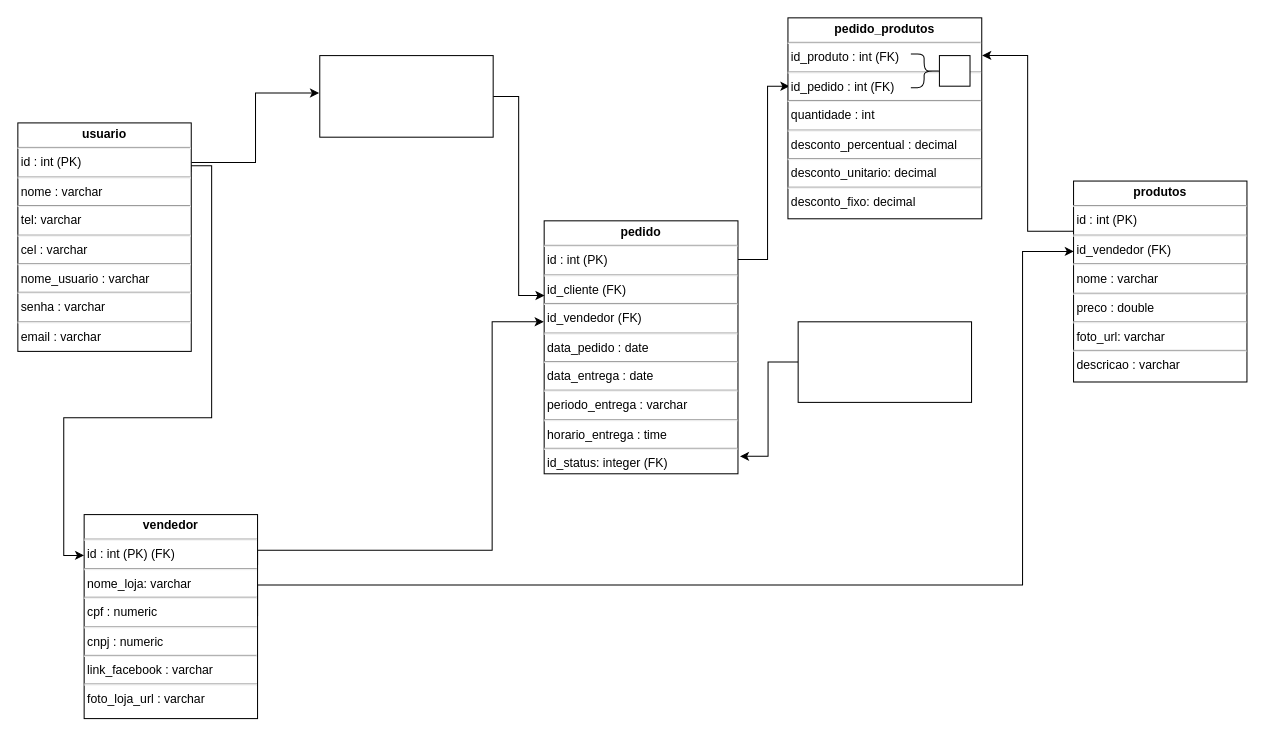
This 1265x736 diagram has some shape labels left out. Each missing label, with the centre of its shape:
(PK): [954,70]
consumidor id : int (PK) (FK) cpf : numeric: [406,96]
status_pedido id : int (PK) descricao : varchar: [884,361]
